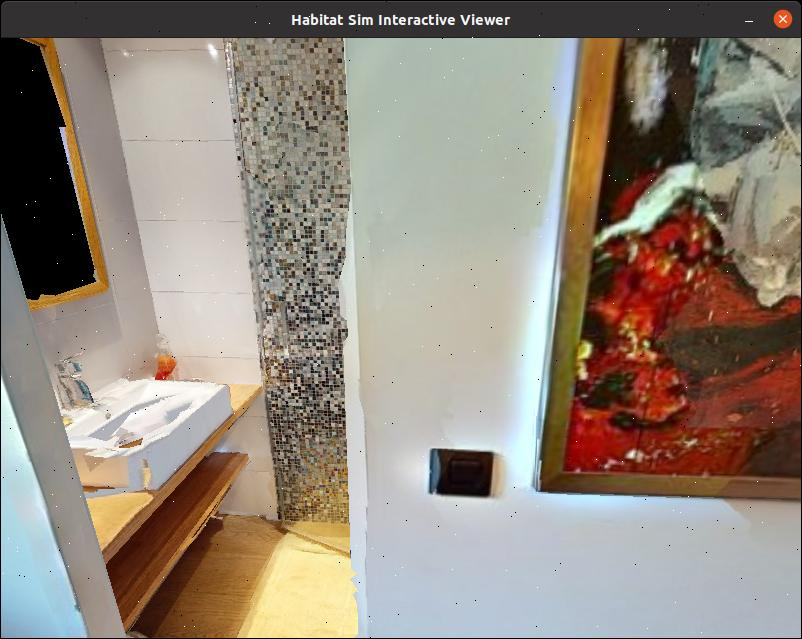door-frame: (0, 36, 378, 638)
sink: (16, 347, 219, 487)
